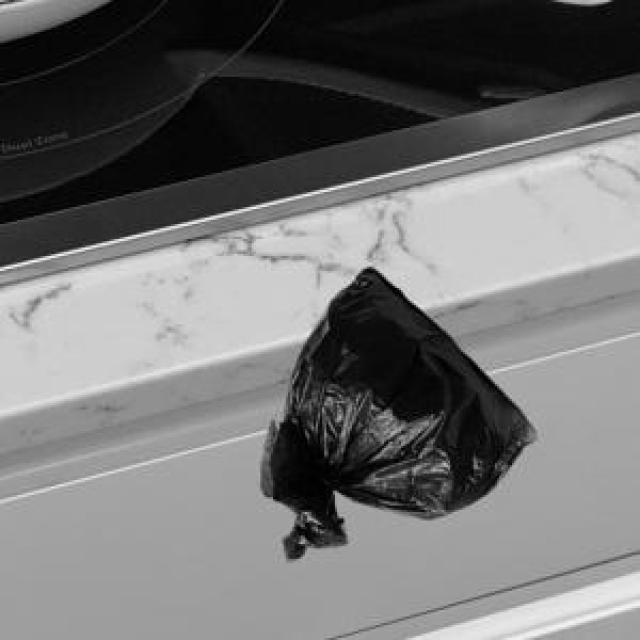miscellaneous trash: (256, 265, 533, 557)
